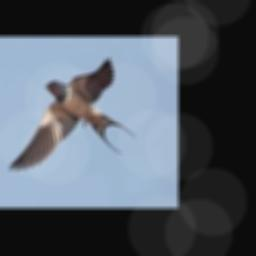Swallow: (6, 57, 135, 170)
